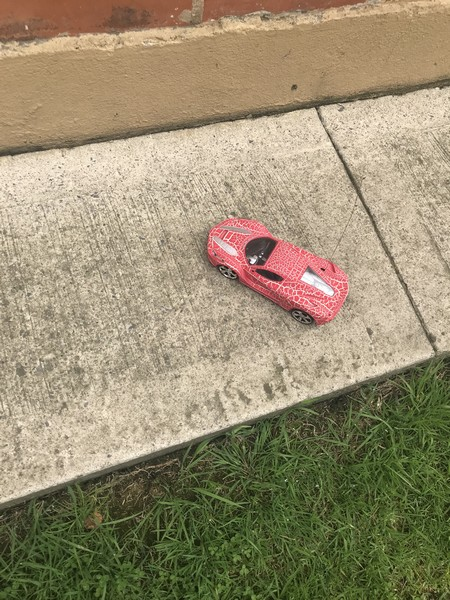RC: (206, 215, 350, 327)
